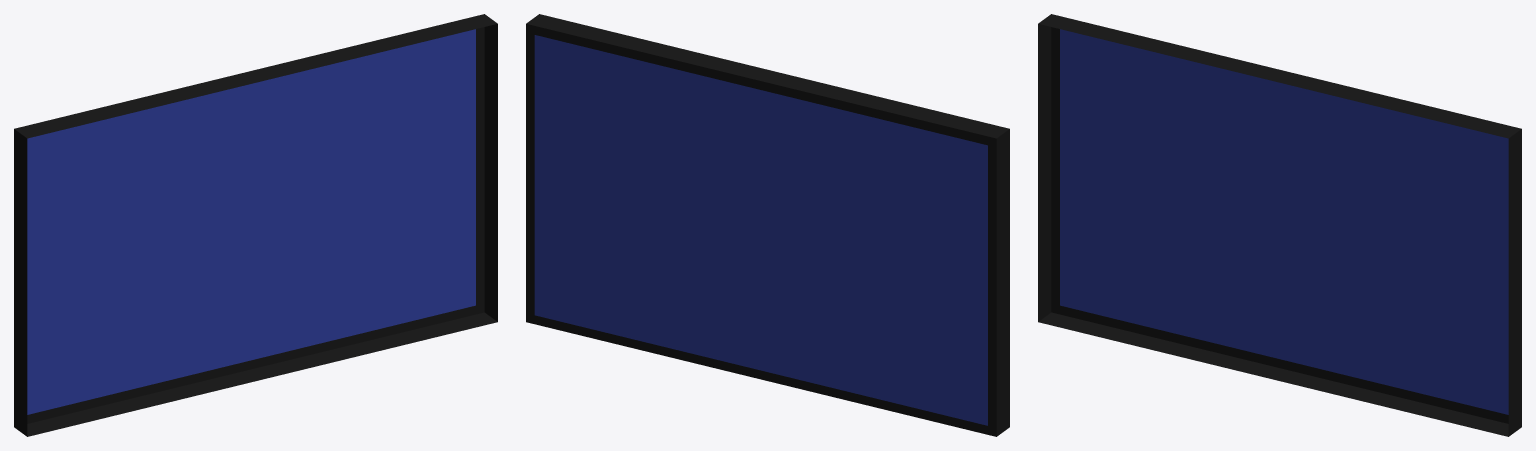
The model's file is maytinhtreotuong.001.fbx.
3 renders of one model, left to right at view 1: azimuth 30°, elevation 25°; view 2: azimuth 150°, elevation 25°; view 3: azimuth 330°, elevation 25°, orthographic.
Visible parts, largest first — view 1: maytinhtreotuong.001; view 2: maytinhtreotuong.001; view 3: maytinhtreotuong.001.
Part boxes in pixels (<box>): maytinhtreotuong.001: <box>14,14,497,436</box>; maytinhtreotuong.001: <box>526,14,1009,436</box>; maytinhtreotuong.001: <box>1038,14,1521,436</box>.
Bounding box in the file's own units: 489 × 296 × 23.98.
